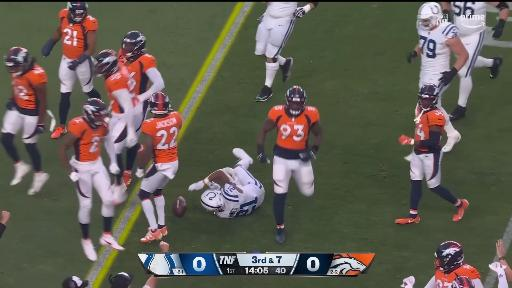Helmet: (435, 242, 464, 274), (4, 47, 32, 76), (83, 98, 108, 128), (122, 31, 146, 60), (418, 2, 442, 30), (94, 50, 118, 77), (286, 86, 306, 117), (419, 84, 438, 110), (149, 92, 171, 114), (201, 190, 224, 211), (67, 2, 87, 23), (452, 276, 474, 287)
Jersey: (268, 106, 319, 159), (418, 22, 458, 76), (142, 112, 182, 163), (59, 9, 98, 59), (11, 64, 47, 115), (68, 117, 108, 162), (215, 181, 263, 218), (119, 50, 156, 94), (105, 66, 136, 113), (451, 2, 487, 37), (435, 264, 481, 287), (415, 108, 446, 142), (266, 2, 297, 18)
Player: (59, 98, 124, 261), (395, 82, 469, 224), (257, 85, 323, 243), (407, 2, 469, 152), (441, 1, 509, 121), (41, 1, 100, 139), (0, 46, 49, 194), (136, 92, 183, 242), (255, 2, 318, 102), (95, 49, 144, 170), (189, 148, 265, 218), (118, 30, 165, 98), (424, 241, 483, 288), (121, 148, 136, 185), (132, 101, 148, 133)
